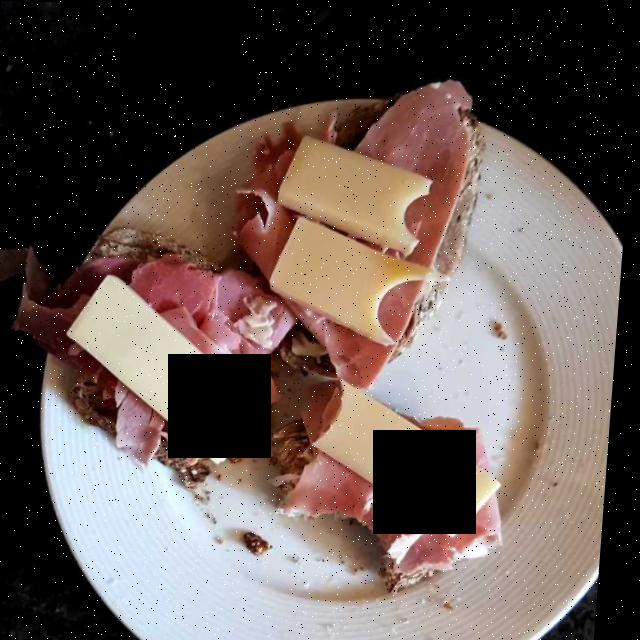bread-grain: (48, 96, 488, 572)
